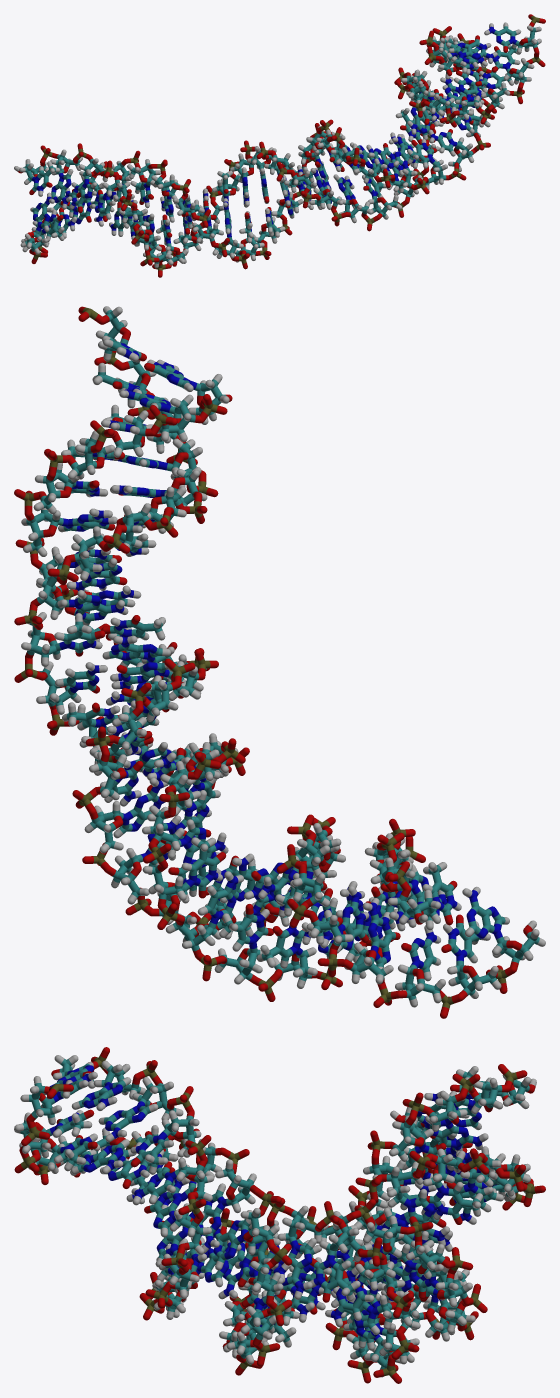
File: DNA.obj
The picture shows the model from 3 angles, top to bottom: view 1: azimuth 30°, elevation 25°; view 2: azimuth 150°, elevation 25°; view 3: azimuth 270°, elevation 25°; orthographic projection. The views are drawn at different scales.
Parts seen in each view (by area): view 1: DNA; view 2: DNA; view 3: DNA.
Part boxes in pixels (left/top/right/bottom): DNA: left=14, top=14, right=545, bottom=277; DNA: left=14, top=306, right=545, bottom=1018; DNA: left=14, top=1047, right=545, bottom=1383.
Size of the model in its own units: 12.24 by 8.16 by 9.1.
